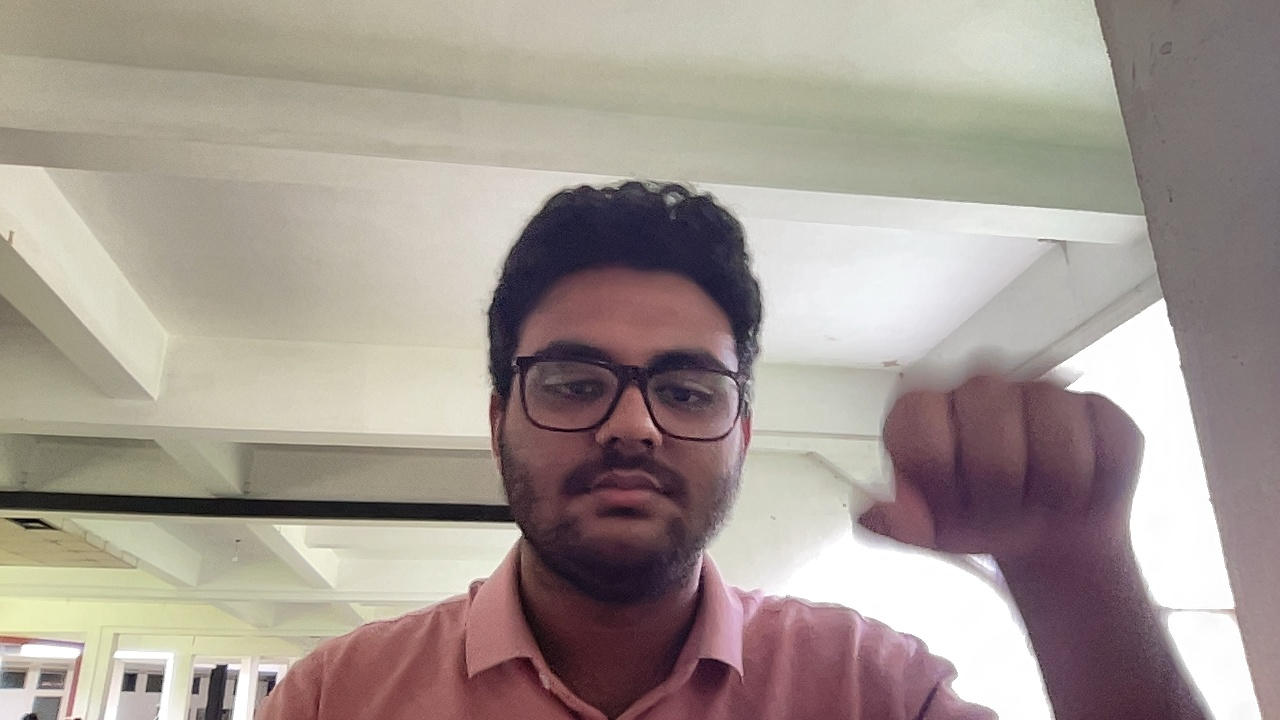no: (866, 316, 1158, 609)
